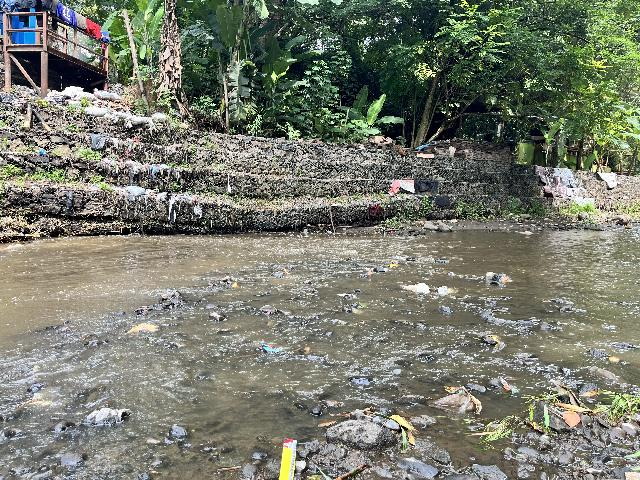Sampah Anorganik: (430, 389, 481, 410), (280, 435, 296, 480), (493, 374, 523, 397), (254, 339, 283, 354), (485, 270, 511, 284), (401, 282, 430, 293), (436, 286, 452, 296), (342, 293, 356, 299), (387, 262, 400, 268), (302, 280, 310, 284)
Sampah Organik: (528, 384, 640, 429), (315, 408, 417, 451), (126, 321, 160, 336), (484, 333, 502, 351), (354, 302, 369, 315), (295, 346, 310, 355), (132, 306, 150, 313), (231, 281, 240, 288), (264, 309, 274, 315), (610, 356, 617, 364), (284, 269, 290, 275), (367, 270, 372, 276)
